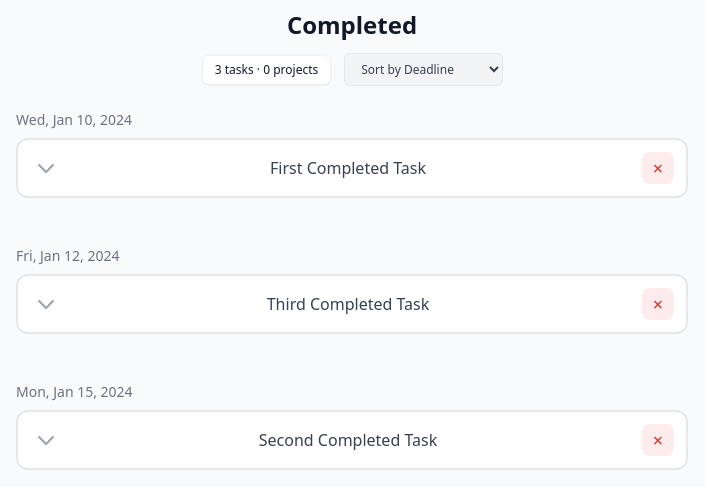
Test case: TaskList - Completed Tasks Sorting › sorts tasks by "Recently Completed" (newest first)
Note: Change to "Recently Completed"
Select "Recently Completed" in the dropdown: (424,70) [344,53,503,86]
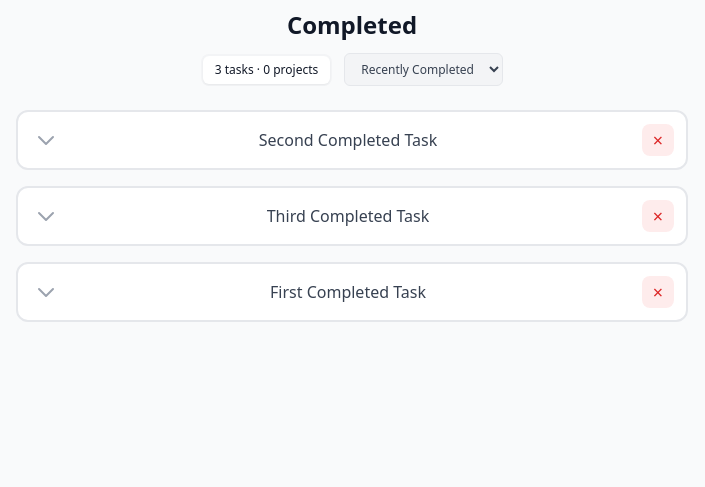
Expected: the text "Third Completed Task" is shown, [267,204,429,228]
Expected: the text "Second Completed Task" is shown, [259,128,437,152]
Expected: the text "First Completed Task" is shown, [270,280,426,304]
